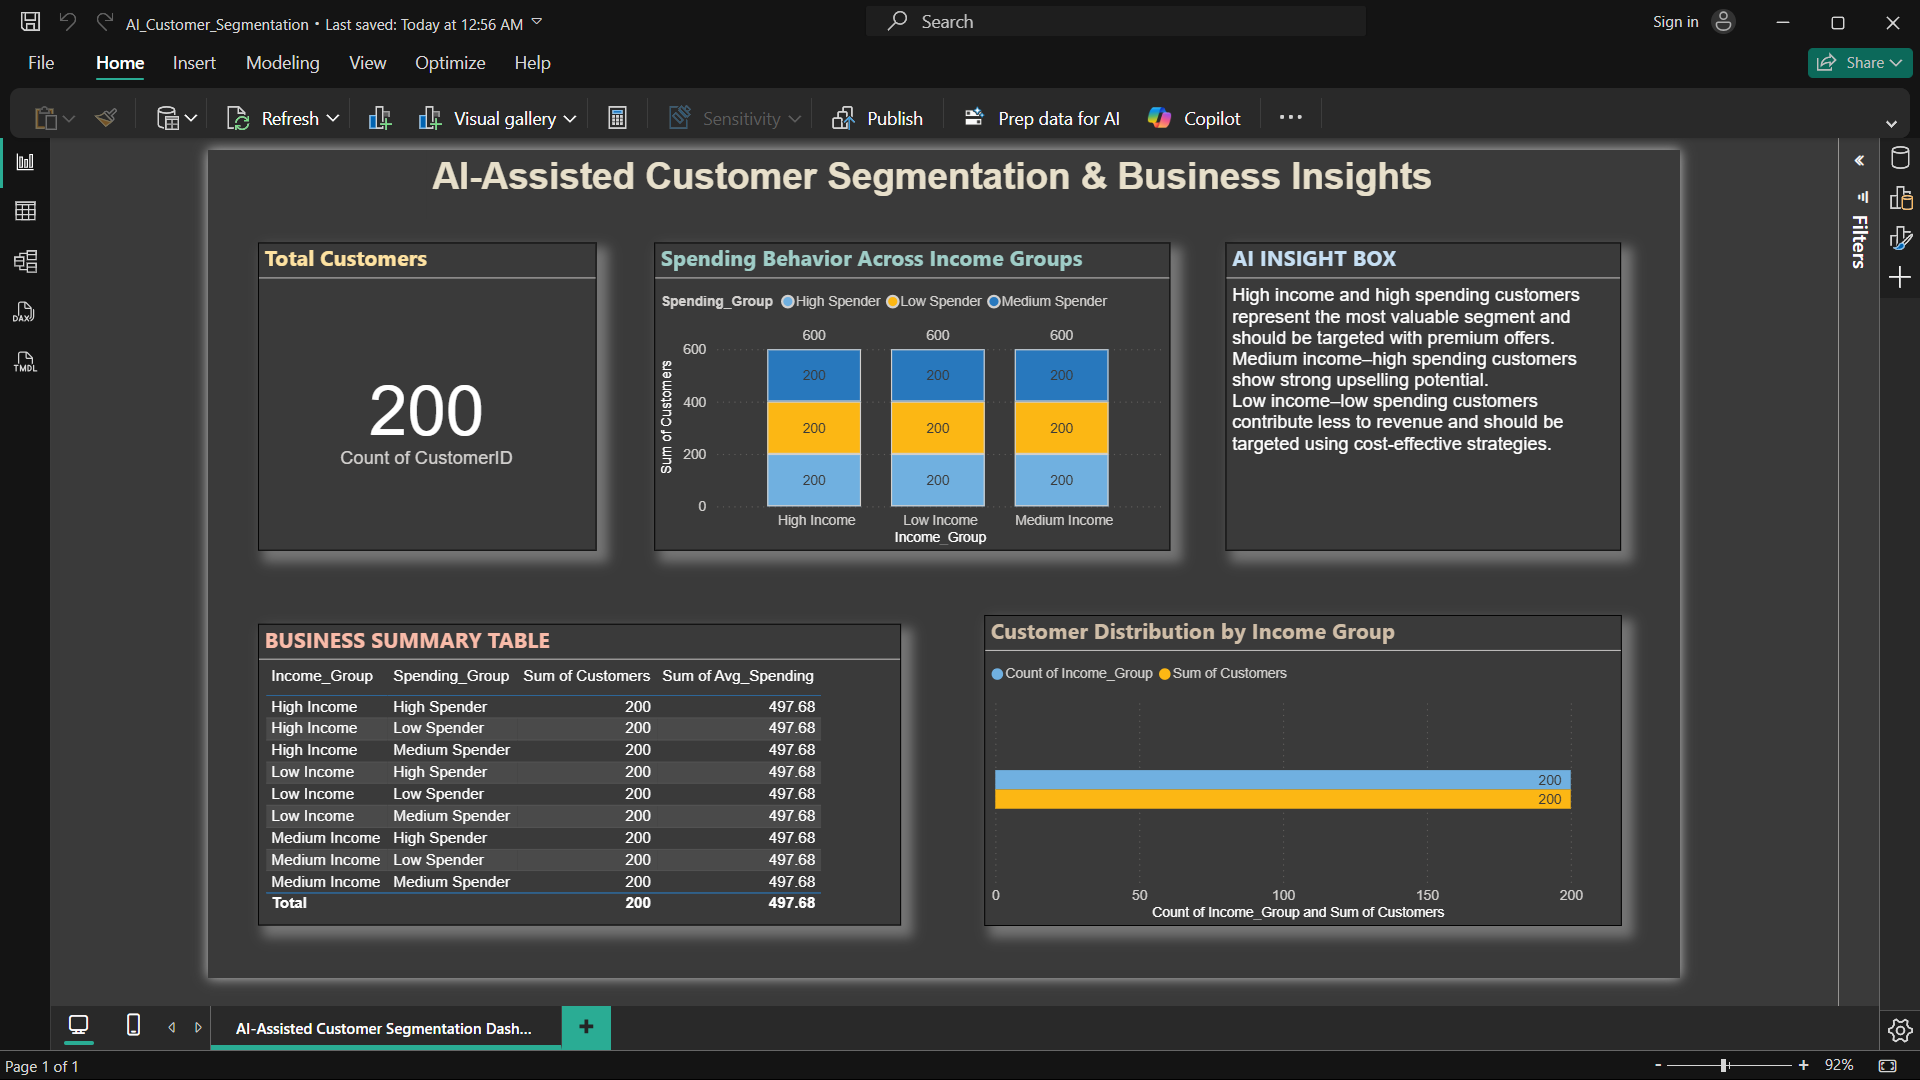

This screenshot's page, from the dashboard's own definition file:
{"tool":"powerbi","page":{"name":"AI-Assisted Customer Segmentation Dashboard","canvas":[1280,720],"ordinal":0},"visuals":[{"type":"card","title":"Total Customers","fields":{"Values":["CountNonNull(segmented_customers.CustomerID)"]},"box":[43,80,294,268],"z":0},{"type":"clusteredBarChart","title":"Customer Distribution by Income Group","fields":{"Y":["CountNonNull(segmented_customers.Income_Group)","Sum(segment_summary.Customers)"]},"box":[675,404,554,270],"z":1},{"type":"columnChart","title":"Spending Behavior Across Income Groups","fields":{"Category":["segmented_customers.Income_Group"],"Series":["segmented_customers.Spending_Group"],"Y":["Sum(segment_summary.Customers)"]},"box":[388,80,449,268],"z":2},{"type":"tableEx","title":"BUSINESS SUMMARY TABLE","fields":{"Values":["segmented_customers.Income_Group","segmented_customers.Spending_Group","Sum(segment_summary.Customers)","Sum(segment_summary.Avg_Spending)"]},"box":[43,412,559,262],"z":3},{"type":"textbox","box":[190,0,903,60],"z":4},{"type":"textbox","title":"AI INSIGHT BOX","box":[885,80,344,268],"z":5}]}

Visuals, with their boxes on the page's 1280x720 design canvas (x1, y1, x2, y2). These are canvas units, not pixel positions in the 1920x1080 screenshot, which may show the page scaled, cropped or inside an application window:
"Total Customers" card: rect(43, 80, 337, 348)
"Customer Distribution by Income Group" clusteredBarChart: rect(675, 404, 1229, 674)
"Spending Behavior Across Income Groups" columnChart: rect(388, 80, 837, 348)
"BUSINESS SUMMARY TABLE" tableEx: rect(43, 412, 602, 674)
textbox: rect(190, 0, 1093, 60)
"AI INSIGHT BOX" textbox: rect(885, 80, 1229, 348)
